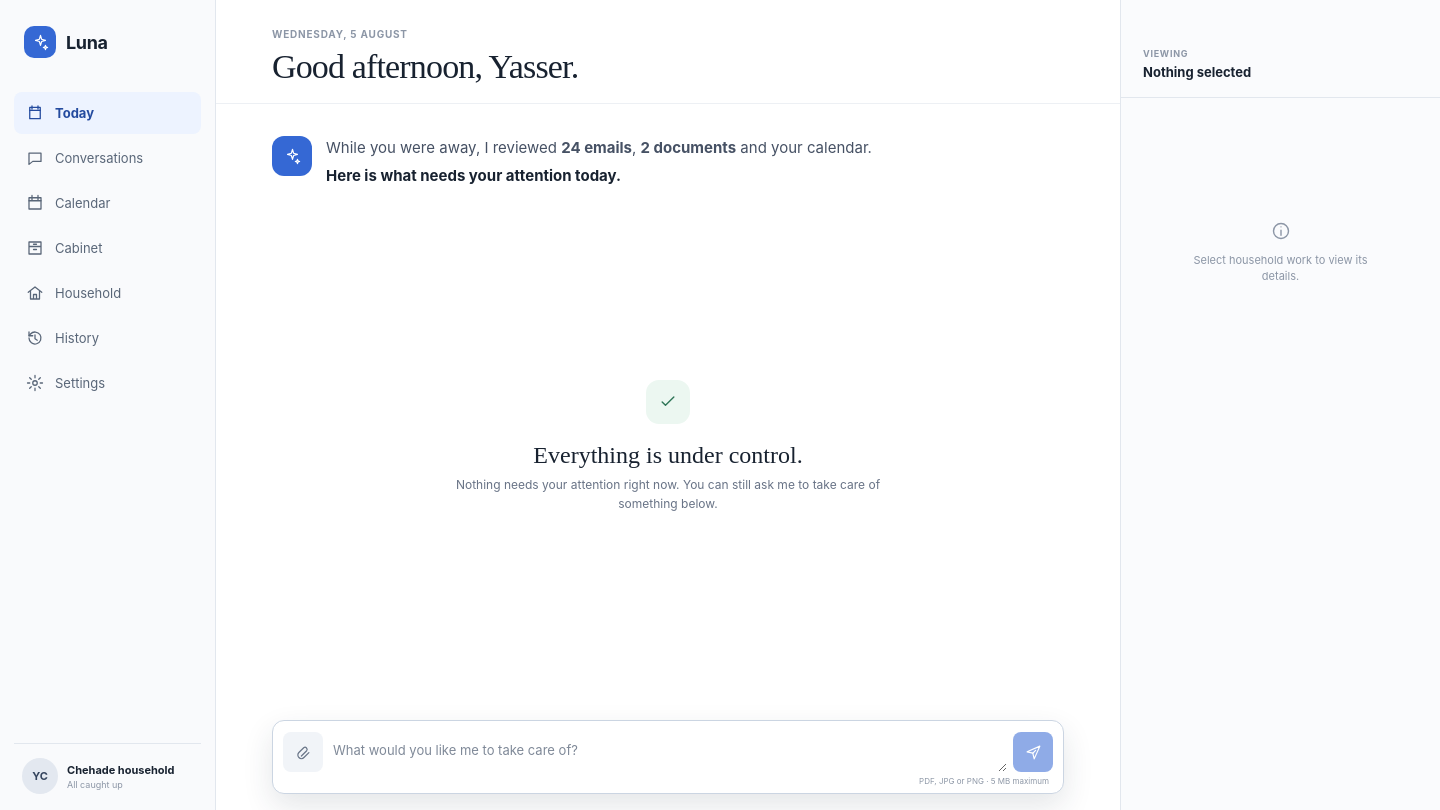
Test: production Today route › keeps a new instruction visible when the briefing starts empty
expect the heading "Everything is under control." is shown: met, box [533,442,803,469]
Step 1. Type "Arrange the annual smoke alarm check" into the text box named "Instruction for Luna" → coordinates (668, 751), box [329,730,1007,772]
Then press Enter
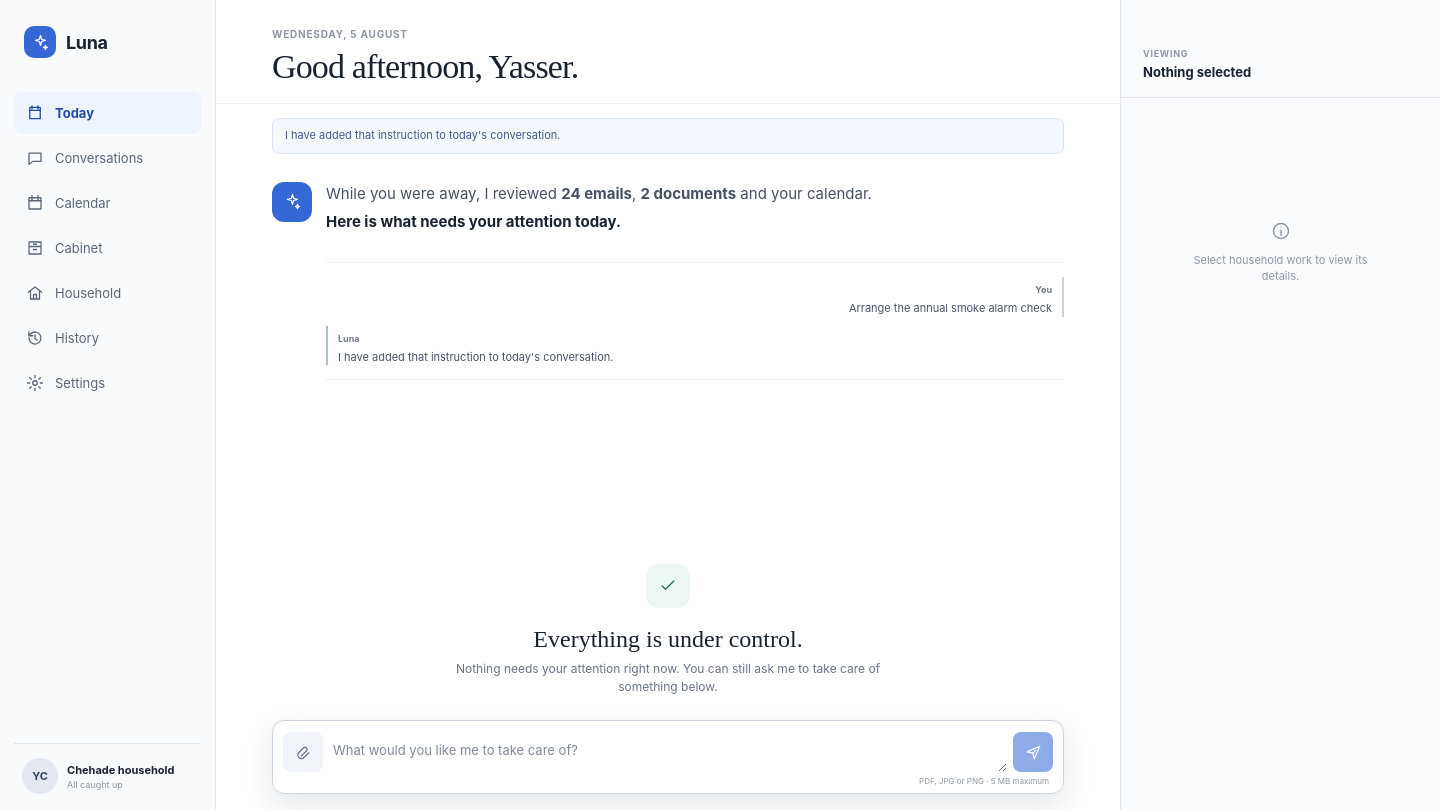
expect the heading "Everything is under control." is shown: met, box [533,626,803,653]
expect the text "Arrange the annual smoke alarm check" is shown: met, box [849,300,1052,317]
